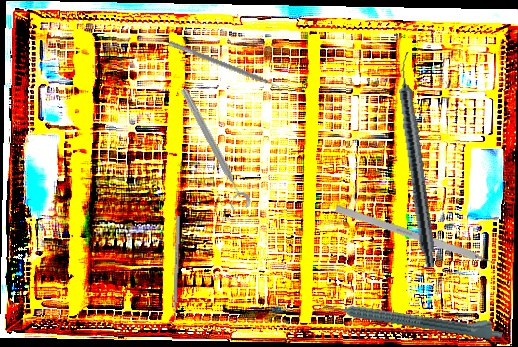Fixation Ring: (170, 85, 254, 215)
Handpiece: (392, 51, 442, 269), (322, 292, 505, 343)
Hook Surgical: (334, 204, 510, 272)
Pusher: (172, 215, 181, 331)
Spatula Surgical: (166, 40, 284, 95)
